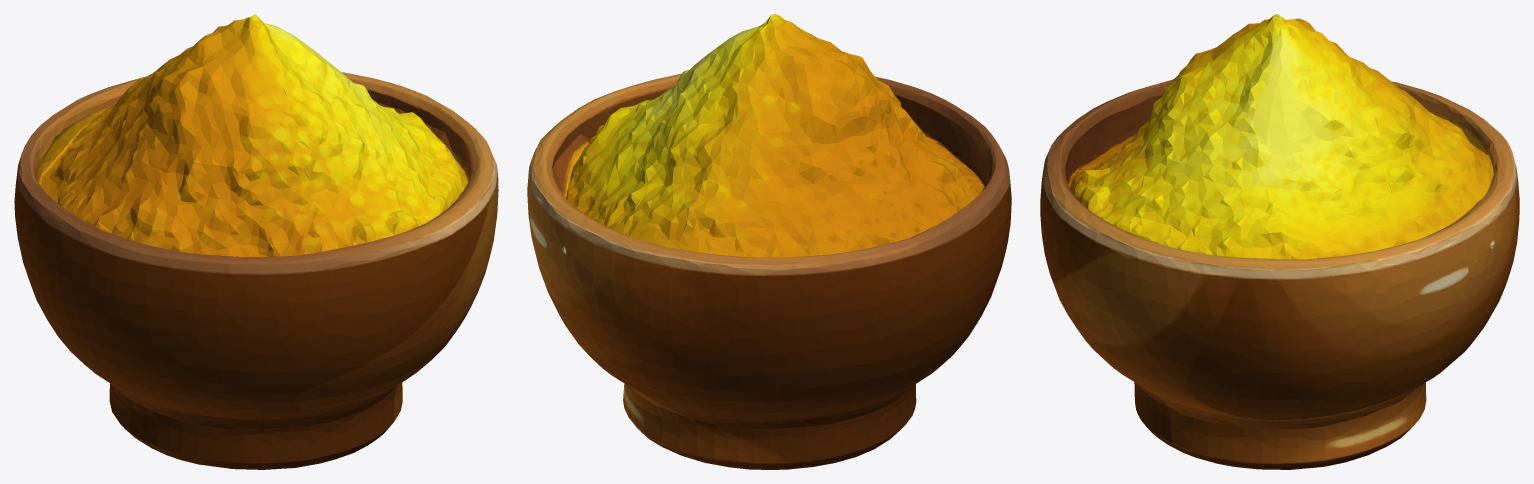
File: currypowder.glb
3 views of the same model, side by side, from view 1: azimuth 30°, elevation 25°; view 2: azimuth 150°, elevation 25°; view 3: azimuth 270°, elevation 25° (orthographic).
Visible parts, largest first — view 1: world; view 2: world; view 3: world.
Boxes of the visible parts, <box> form: world: <box>14,14,498,469</box>; world: <box>527,14,1011,469</box>; world: <box>1040,14,1519,469</box>.
Size of the model in its own units: 0.5437 by 0.5021 by 0.5436.
Materials: 1 (1 with a texture image).
